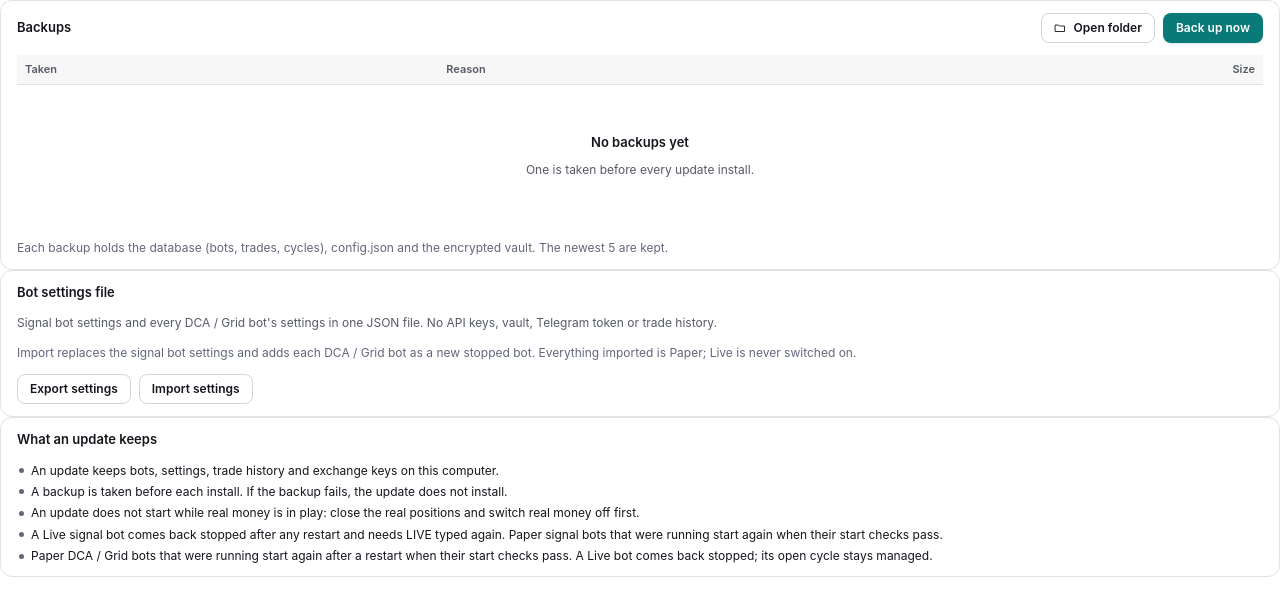
it: BackupTab › starts empty and lists a backup taken with Back up now
Click the button "Back up now".
click(1213, 28)  # box [1163,13,1263,43]
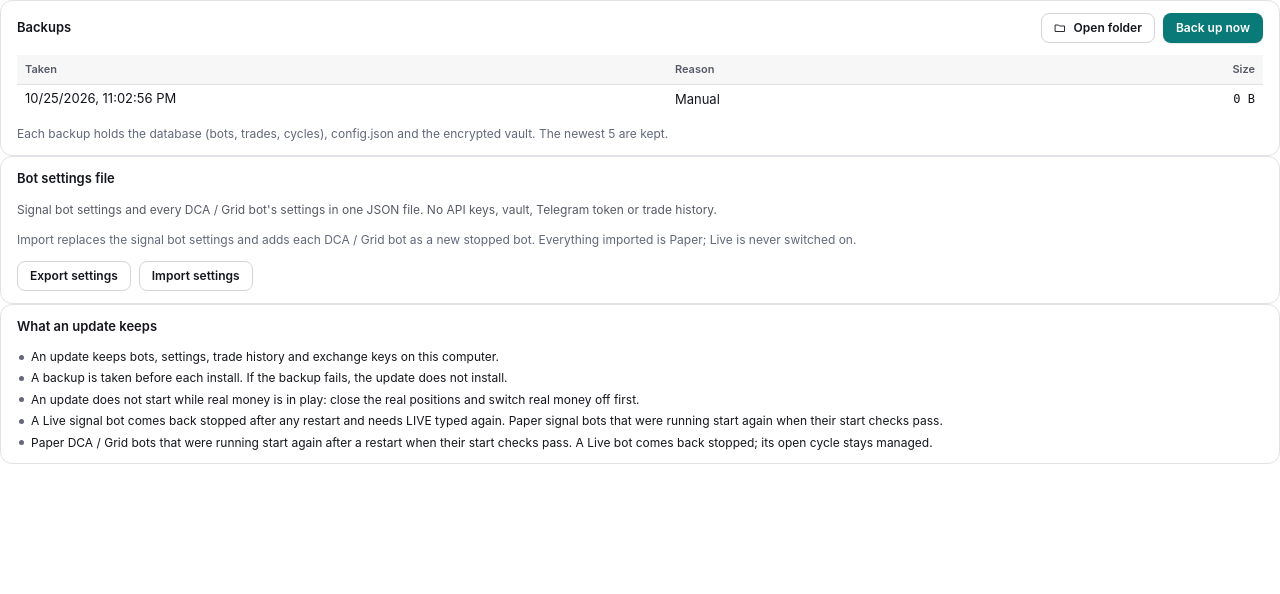
expect the text "No backups yet" is gone: met
expect the text "Manual" is shown: met, box [667,85,1113,113]
expect the text "0 B" is shown: met, box [1113,85,1263,113]
